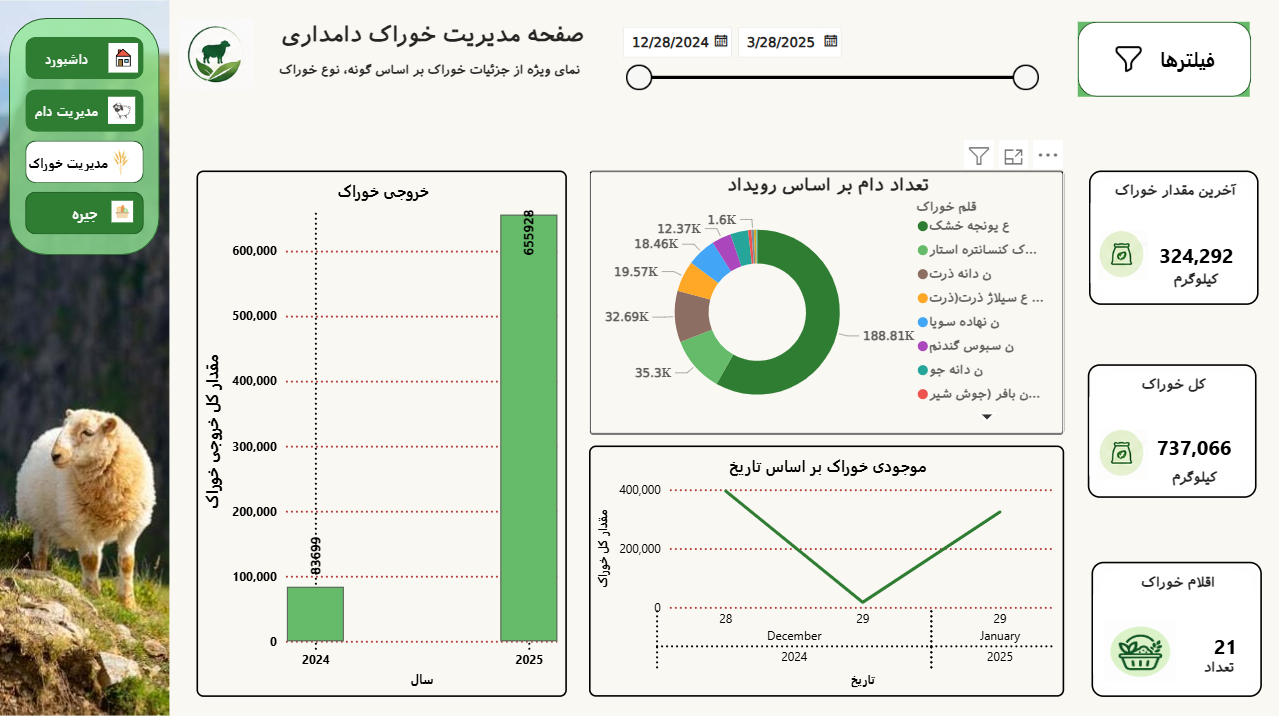

The page's visual inventory and layout, read from the dashboard file:
{"tool":"powerbi","page":{"name":"مدیریت خوراک","canvas":[1280,720],"ordinal":2},"visuals":[{"type":"image","box":[0,0,170,720],"z":0},{"type":"shape","box":[1078.1,23.4,173.4,75],"z":0,"group":"g3"},{"type":"shape","box":[26.1,142.2,118.5,42.7],"z":0,"group":"g2"},{"type":"image","box":[1109.7,39.8,38.7,42.2],"z":1000,"group":"g3"},{"type":"image","box":[109.1,149.3,27.3,27.3],"z":1000,"group":"g2"},{"type":"shape","box":[9.5,20.1,150.5,237],"z":2000},{"type":"shape","box":[26.1,39.1,118.5,42.7],"z":2000,"group":"g1"},{"type":"image","box":[105.5,45,35.6,29.6],"z":3000,"group":"g1"},{"type":"group","id":"g1","title":"Group 2","box":[26.1,39.1,118.5,42.7],"z":4000},{"type":"shape","box":[26.1,91.3,118.5,42.7],"z":6000},{"type":"image","box":[105.5,98.4,35.6,27.3],"z":8000},{"type":"group","id":"g2","title":"Group 1","box":[26.1,142.2,118.5,42.7],"z":9000},{"type":"shape","box":[26.1,193.2,118.5,42.7],"z":11000},{"type":"image","box":[112.6,199.1,21.3,29.6],"z":13000},{"type":"image","box":[179.3,18.8,76.2,75],"z":14000},{"type":"textbox","box":[255,18.8,335,82.5],"z":15000},{"type":"slicer","fields":{"Values":["DimDate.Date"]},"box":[611.2,5,436.2,102.5],"z":16000},{"type":"group","id":"g3","title":"Group 3","box":[1078.1,23.4,173.4,75],"z":17000},{"type":"cardVisual","title":"آخرین مقدار خوراک","fields":{"Data":["گزارش موجودی خوراک.موجودی خوراک در آخرین تاریخ"]},"box":[1089.4,172.9,169.9,134.8],"z":18000},{"type":"image","box":[1094,232.8,60,50],"z":19000},{"type":"textbox","box":[1162.1,269,69.1,25.8],"z":20000},{"type":"cardVisual","title":"کل خوراک","fields":{"Data":["گزارش موجودی خوراک.مقدار کل موجودی خوراک"]},"box":[1089,366,168.8,133.8],"z":21000},{"type":"image","box":[1094,431,60,50],"z":22000},{"type":"textbox","box":[1161.5,467.2,68.8,26.2],"z":23000},{"type":"cardVisual","title":"اقلام خوراک","fields":{"Data":["گزارش موجودی خوراک.تعداد اقلام خوراک"]},"box":[1093,564,170,135],"z":24000},{"type":"image","box":[1105.5,624,72.5,60],"z":25000},{"type":"textbox","box":[1185.5,657.8,70,26.2],"z":26000},{"type":"columnChart","title":"خروجی خوراک","fields":{"Category":["DimDate.سال","DimDate.نام ماه","DimDate.روز"],"Y":["خروجی خوراک.مقدار کل خروجی خوراک"]},"box":[197.5,172.5,370,526.2],"z":27000},{"type":"pieChart","title":"تعداد دام بر اساس رویداد","fields":{"Category":["DimFeedItem.قلم خوراک"],"Y":["گزارش موجودی خوراک.موجودی خوراک در آخرین تاریخ"]},"box":[590,172.5,475,263.8],"z":28000},{"type":"lineChart","title":"موجودی خوراک بر اساس تاریخ","fields":{"Y":["گزارش موجودی خوراک.مقدار کل موجودی خوراک"],"Category":["DimDate.سال","DimDate.نام ماه","DimDate.روز"]},"box":[590,447.5,475,251.2],"z":29000}]}

Visuals, with their boxes in screenshot pixels (x1, y1, x2, y2), scaled from the page's 1280x720 canvas onto the 1279x716 screenshot:
image: 0/0/170/715
shape: 1077/23/1251/98
shape: 26/141/144/184
image: 1109/40/1148/82
image: 109/148/136/176
shape: 9/20/160/256
shape: 26/39/144/81
image: 105/45/141/74
"Group 2" group: 26/39/144/81
shape: 26/91/144/133
image: 105/98/141/125
"Group 1" group: 26/141/144/184
shape: 26/192/144/235
image: 113/198/134/227
image: 179/19/255/93
textbox: 255/19/590/101
slicer - DimDate.Date: 611/5/1047/107
"Group 3" group: 1077/23/1251/98
"آخرین مقدار خوراک" cardVisual: 1089/172/1258/306
image: 1093/232/1153/281
textbox: 1161/268/1230/293
"کل خوراک" cardVisual: 1088/364/1257/497
image: 1093/429/1153/478
textbox: 1161/465/1229/491
"اقلام خوراک" cardVisual: 1092/561/1262/695
image: 1105/621/1177/680
textbox: 1185/654/1255/680
"خروجی خوراک" columnChart: 197/172/567/695
"تعداد دام بر اساس رویداد" pieChart: 590/172/1064/434
"موجودی خوراک بر اساس تاریخ" lineChart: 590/445/1064/695
